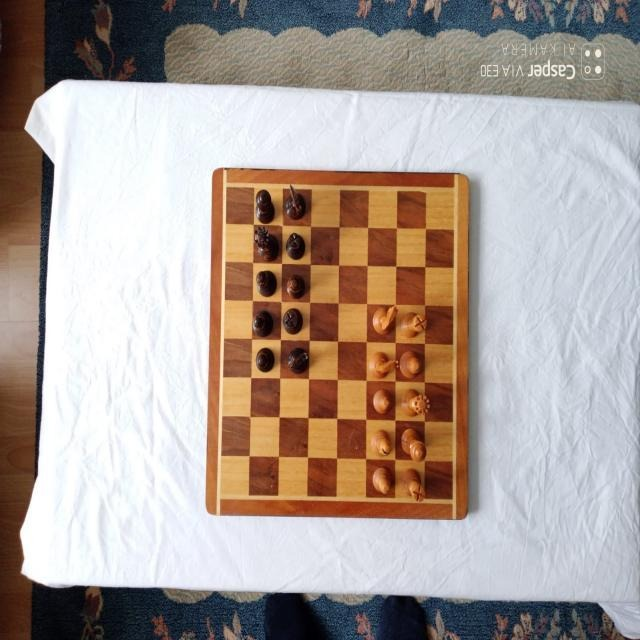black-bishop: (254, 269, 277, 297), (252, 310, 274, 338)
black-king: (256, 188, 276, 223)
black-knight: (285, 183, 307, 221), (287, 346, 309, 374)
black-pawn: (255, 346, 275, 373), (287, 273, 305, 299)
black-queen: (252, 226, 279, 262)
black-rook: (282, 307, 303, 335), (286, 232, 306, 260)
white-bishop: (398, 350, 421, 378), (371, 428, 392, 455)
white-king: (401, 428, 427, 463)
white-knight: (369, 352, 399, 380), (372, 304, 398, 336)
white-pawn: (372, 467, 392, 495), (372, 389, 391, 414)
white-queen: (401, 388, 431, 418)
white-rook: (401, 468, 424, 503), (400, 310, 427, 338)
